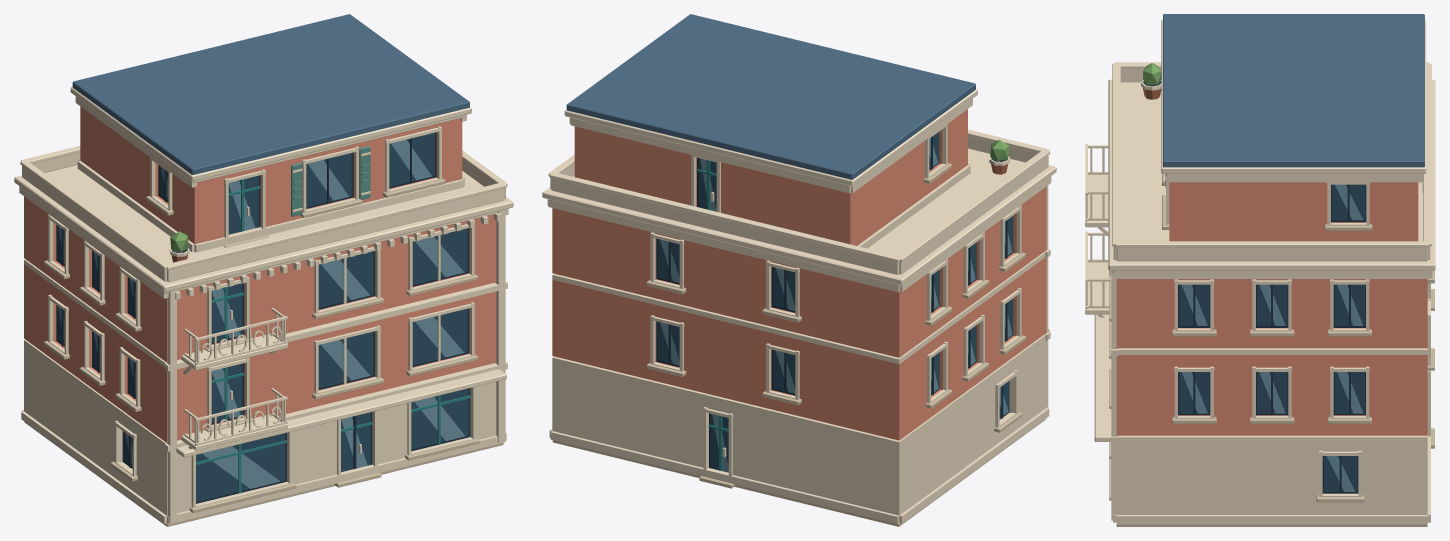
Rendered from balcony_mixed_use_block.glb.
3 views of the same model, side by side, from view 1: azimuth 30°, elevation 25°; view 2: azimuth 150°, elevation 25°; view 3: azimuth 270°, elevation 25° (orthographic). The views are drawn at different scales.
Parts seen in each view (by area): view 1: BalconyMixedUseBlock_StaticMesh; view 2: BalconyMixedUseBlock_StaticMesh; view 3: BalconyMixedUseBlock_StaticMesh.
Boxes of the visible parts, box(x1,y1,x2,y2) form: BalconyMixedUseBlock_StaticMesh: box(14, 14, 513, 526); BalconyMixedUseBlock_StaticMesh: box(542, 14, 1056, 526); BalconyMixedUseBlock_StaticMesh: box(1085, 14, 1435, 526).
Size of the model in its own units: 14.12 by 12.76 by 11.27.
